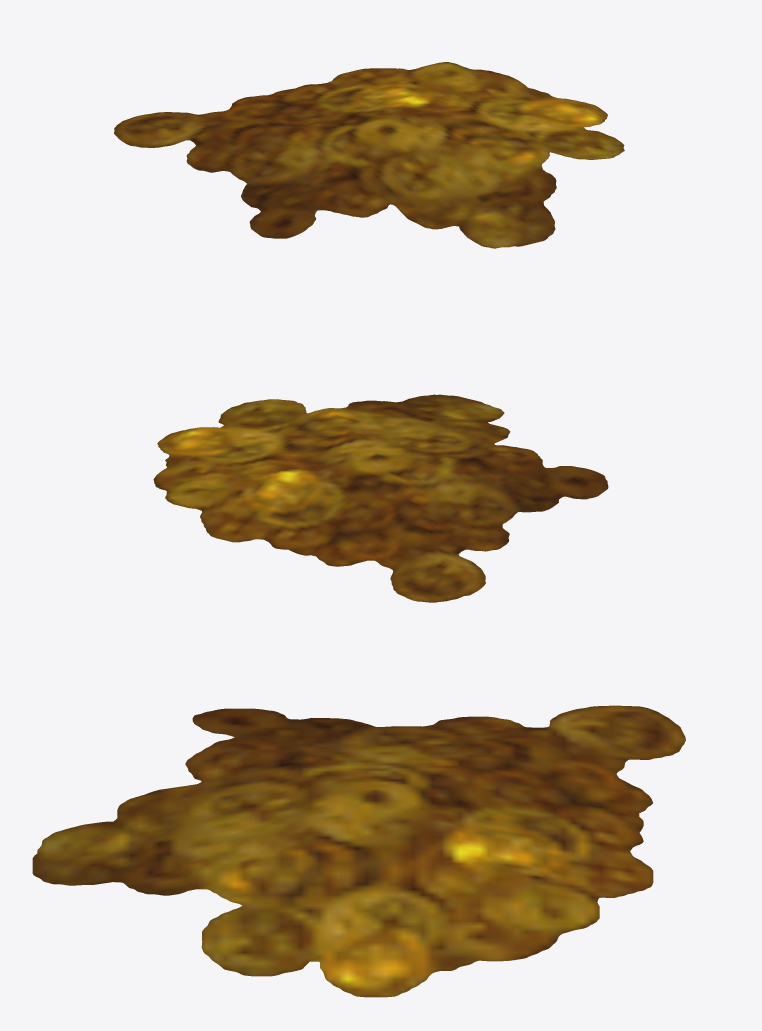
The model's file is sn_chengbao_coins_002.FBX.
3 views of the same model, one above another, from view 1: azimuth 30°, elevation 25°; view 2: azimuth 150°, elevation 25°; view 3: azimuth 270°, elevation 25° (orthographic). The views are drawn at different scales.
Visible parts, largest first — view 1: sn_chengbao_coins_002; view 2: sn_chengbao_coins_002; view 3: sn_chengbao_coins_002.
Part boxes in pixels (x1=…): sn_chengbao_coins_002: x1=114, y1=62, x2=624, y2=248; sn_chengbao_coins_002: x1=153, y1=394, x2=608, y2=602; sn_chengbao_coins_002: x1=32, y1=705, x2=685, y2=997.
Size of the model in its own units: 117 by 106 by 8.64.
